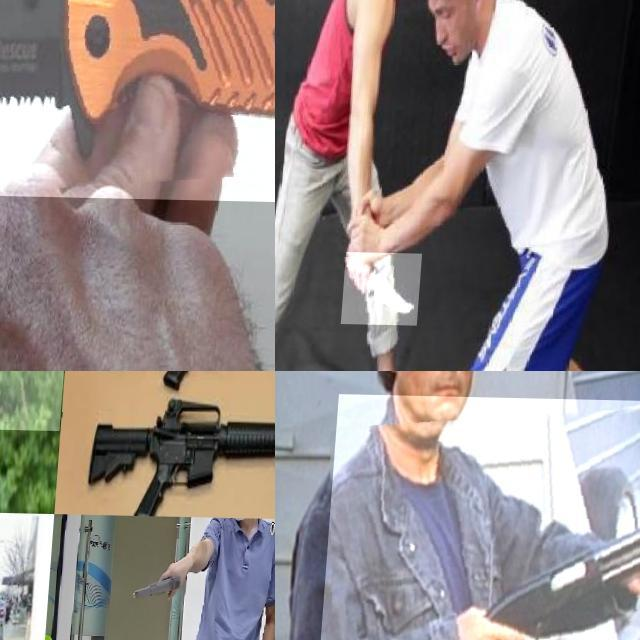-: (0, 0, 275, 202), (348, 251, 428, 324)
gun-knife-thesis - v11 Yolov5 augmented: (319, 393, 640, 640), (82, 386, 275, 506), (97, 371, 275, 409), (0, 371, 105, 433), (115, 371, 275, 405), (136, 558, 188, 597)
